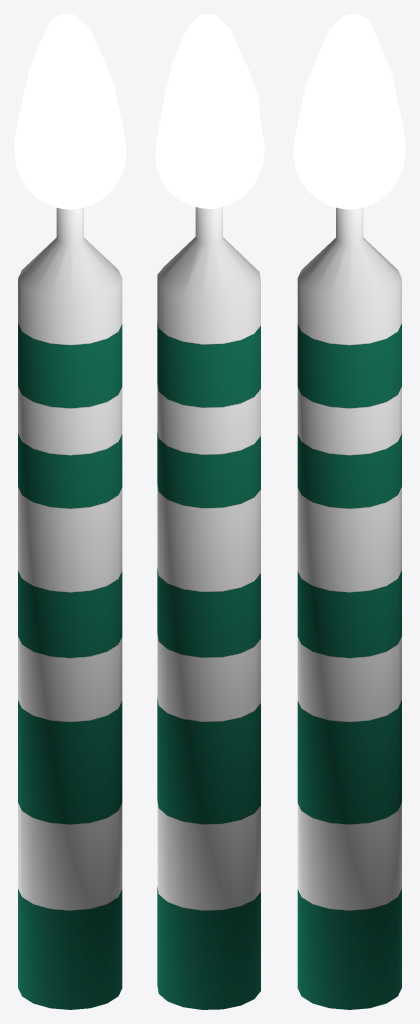
Rendered from candle2.glb.
3 views of the same model, side by side, from view 1: azimuth 90°, elevation 25°; view 2: azimuth 150°, elevation 25°; view 3: azimuth 270°, elevation 25° (orthographic).
Visible parts, largest first — view 1: Candlestick, FlameOuter; view 2: Candlestick, FlameOuter; view 3: Candlestick, FlameOuter.
Part boxes in pixels (<box>): Candlestick: <box>18,207,122,1009</box>; FlameOuter: <box>14,14,126,209</box>; Candlestick: <box>157,207,260,1009</box>; FlameOuter: <box>155,14,264,208</box>; Candlestick: <box>297,207,401,1009</box>; FlameOuter: <box>293,14,405,209</box>.
Size of the model in its own units: 0.6567 by 6.41 by 0.6703.
2 materials, 1 textured.
